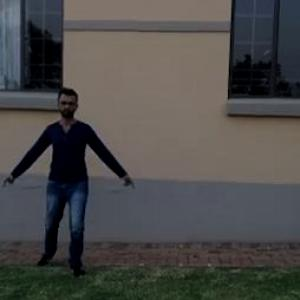land: (11, 91, 122, 262)
